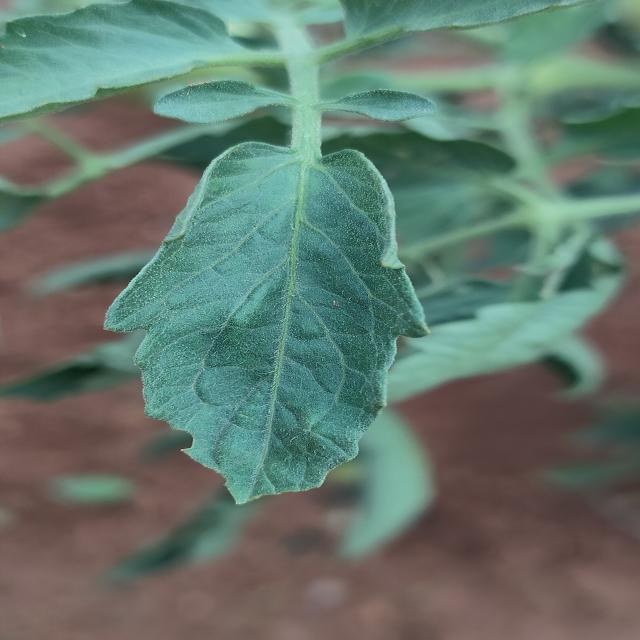tomato_healthy: (104, 89, 427, 504), (0, 0, 281, 120), (341, 0, 589, 36), (156, 79, 296, 123), (319, 88, 436, 121)
